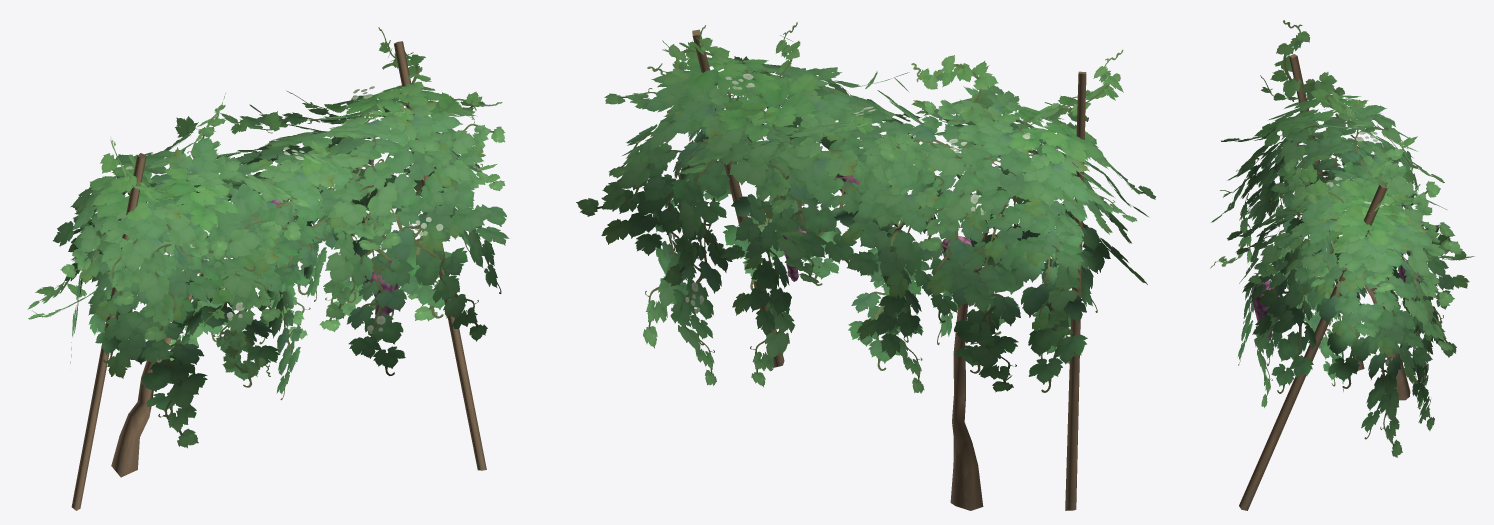
Rendered from Homeworld_Exterior_Common_Plant_Hedge_01_Lod0.fbx.
3 views of the same model, side by side, from view 1: azimuth 30°, elevation 25°; view 2: azimuth 150°, elevation 25°; view 3: azimuth 270°, elevation 25° (orthographic). The views are drawn at different scales.
Visible parts, largest first — view 1: Stages_GrapeGrass13, Stages_Props_GrapeTrellis01_Lod0; view 2: Stages_GrapeGrass13, Stages_Props_GrapeTrellis01_Lod0; view 3: Stages_GrapeGrass13, Stages_Props_GrapeTrellis01_Lod0.
Part boxes in pixels (x1,y1,x2,y2): Stages_GrapeGrass13: [27, 27, 509, 448]; Stages_Props_GrapeTrellis01_Lod0: [71, 41, 486, 510]; Stages_GrapeGrass13: [576, 22, 1155, 393]; Stages_Props_GrapeTrellis01_Lod0: [692, 29, 1086, 510]; Stages_GrapeGrass13: [1210, 20, 1474, 457]; Stages_Props_GrapeTrellis01_Lod0: [1239, 54, 1419, 510].
Size of the model in its own units: 3.29 by 2.63 by 1.89.
3 materials, 3 textured.
